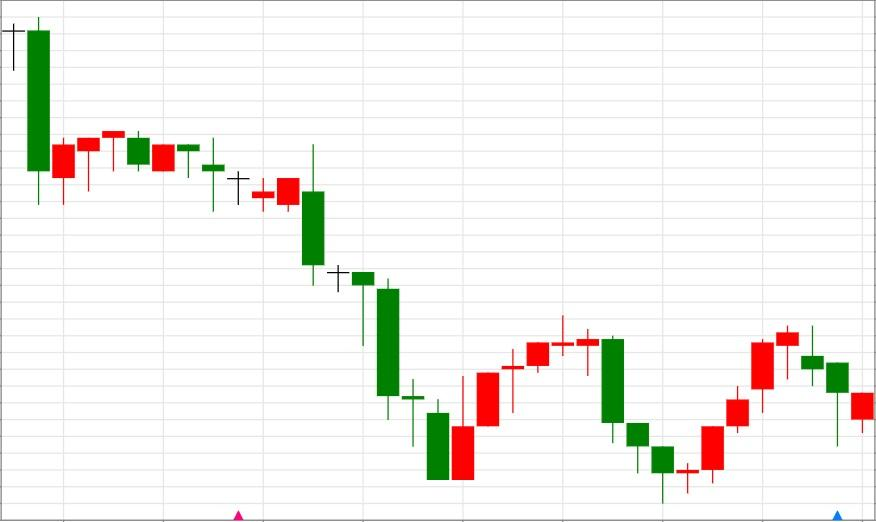inverse_hammer_rise: (101, 130, 476, 482)
morning_star_rise: (551, 315, 725, 503)
